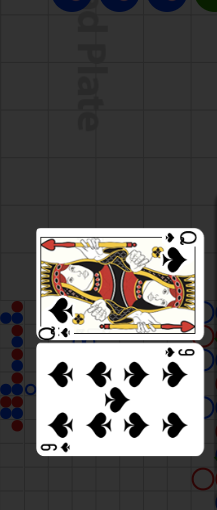9S: (163, 228, 198, 245), (40, 441, 73, 454)
